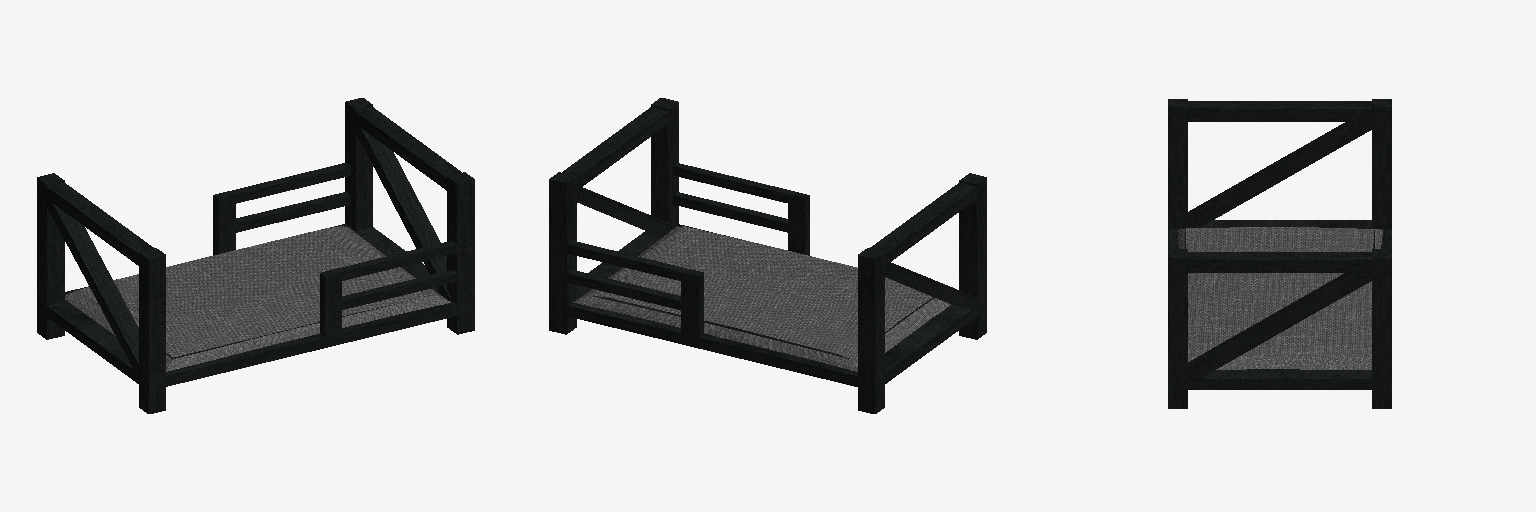
3 views of the same model, side by side, from view 1: azimuth 30°, elevation 25°; view 2: azimuth 150°, elevation 25°; view 3: azimuth 270°, elevation 25° (orthographic).
Size of the model in its own units: 7.4 by 3.37 by 4.4.
2 materials, 2 textured.